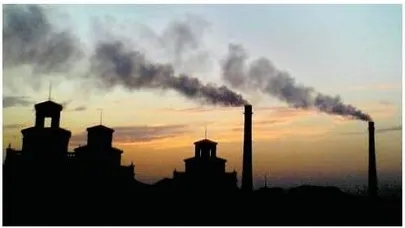工厂排烟: (90, 4, 372, 123), (3, 4, 251, 112)
